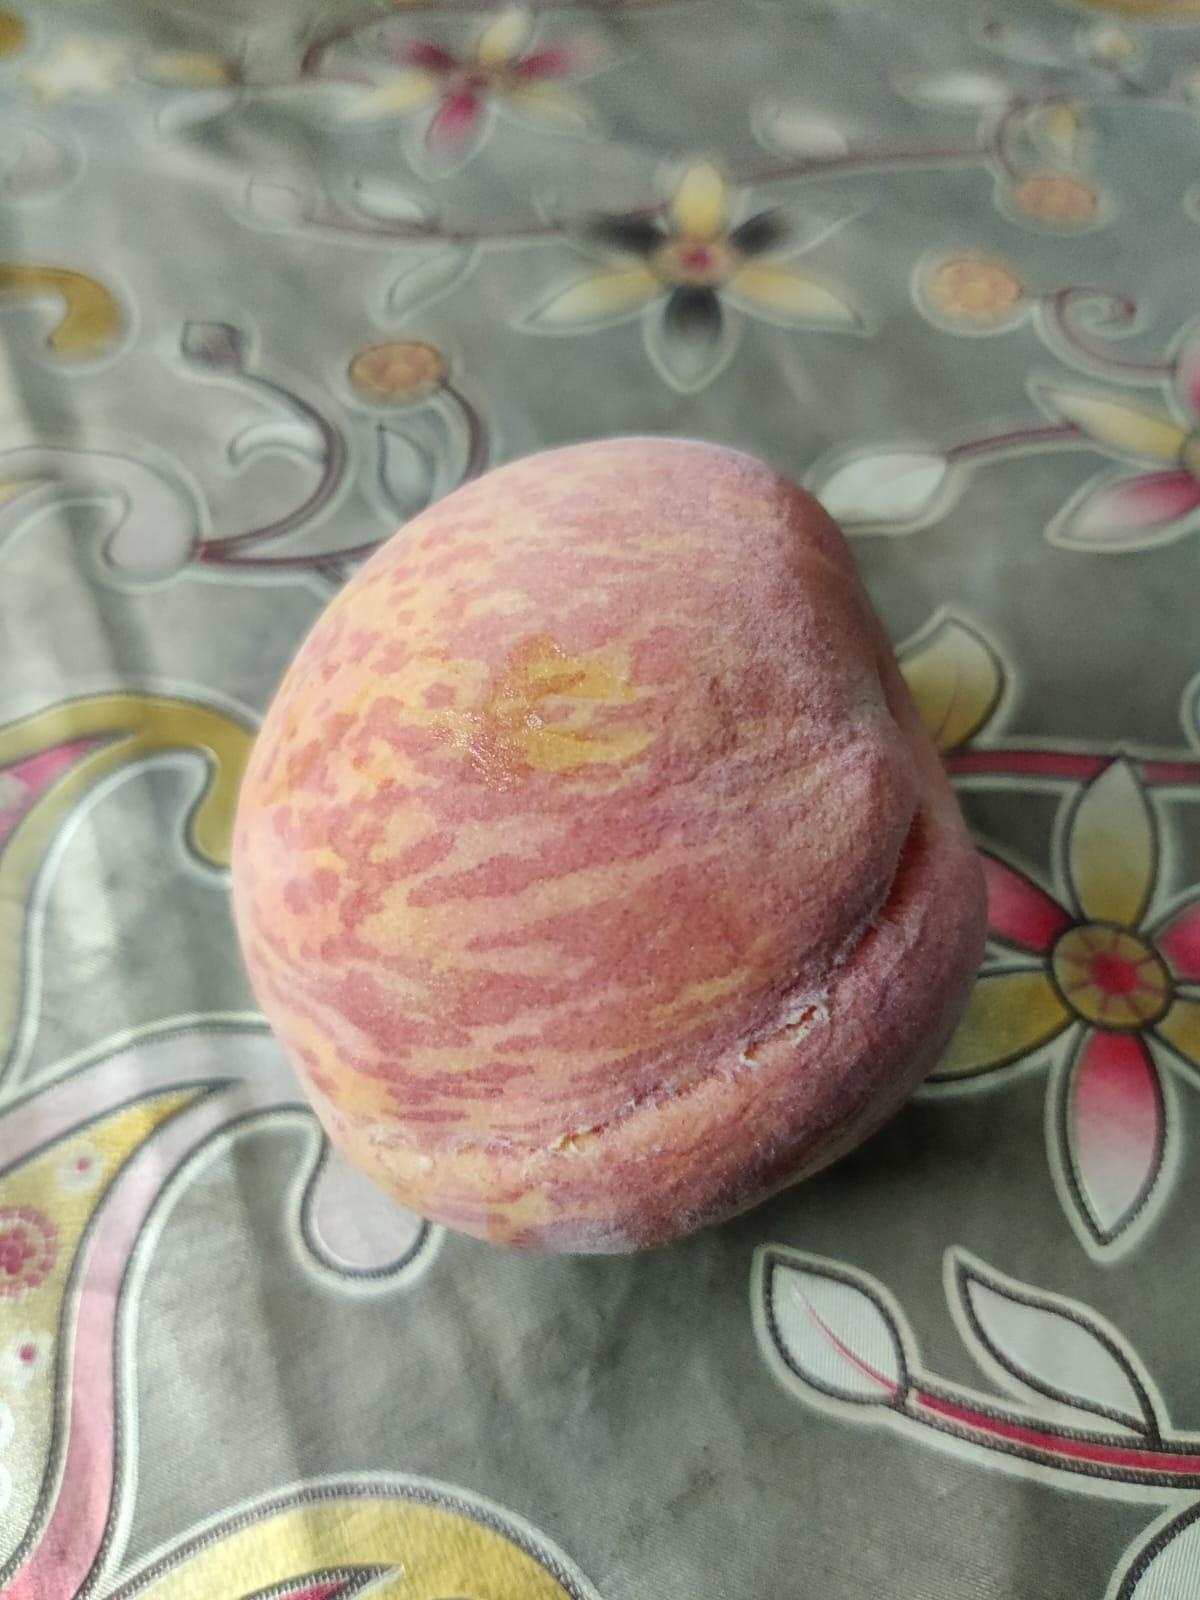non-mango: (224, 417, 1007, 1265)
